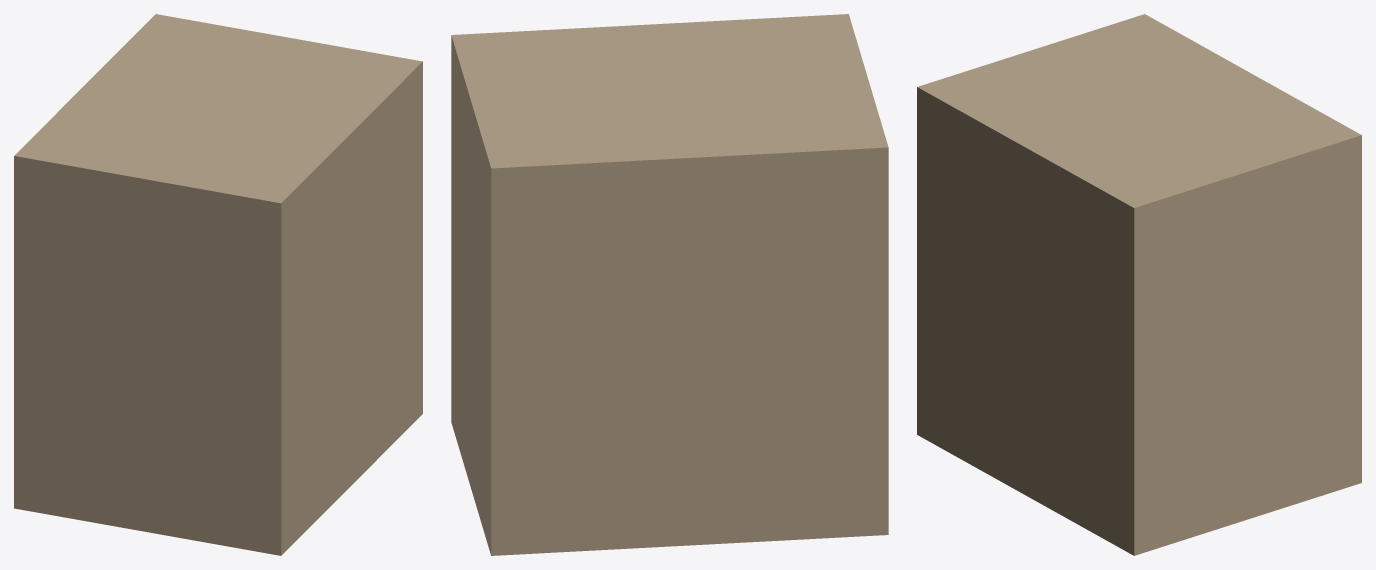
File: bld_105794379.dae
3 renders of one model, left to right at view 1: azimuth 30°, elevation 25°; view 2: azimuth 150°, elevation 25°; view 3: azimuth 270°, elevation 25°, orthographic. The views are drawn at different scales.
Parts seen in each view (by area): view 1: bld_105794379; view 2: bld_105794379; view 3: bld_105794379.
Part boxes in pixels (<box>): bld_105794379: <box>14,14,422,555</box>; bld_105794379: <box>451,14,888,555</box>; bld_105794379: <box>917,14,1361,555</box>.
Bounding box in the file's own units: 9.58 × 9.27 × 8.
